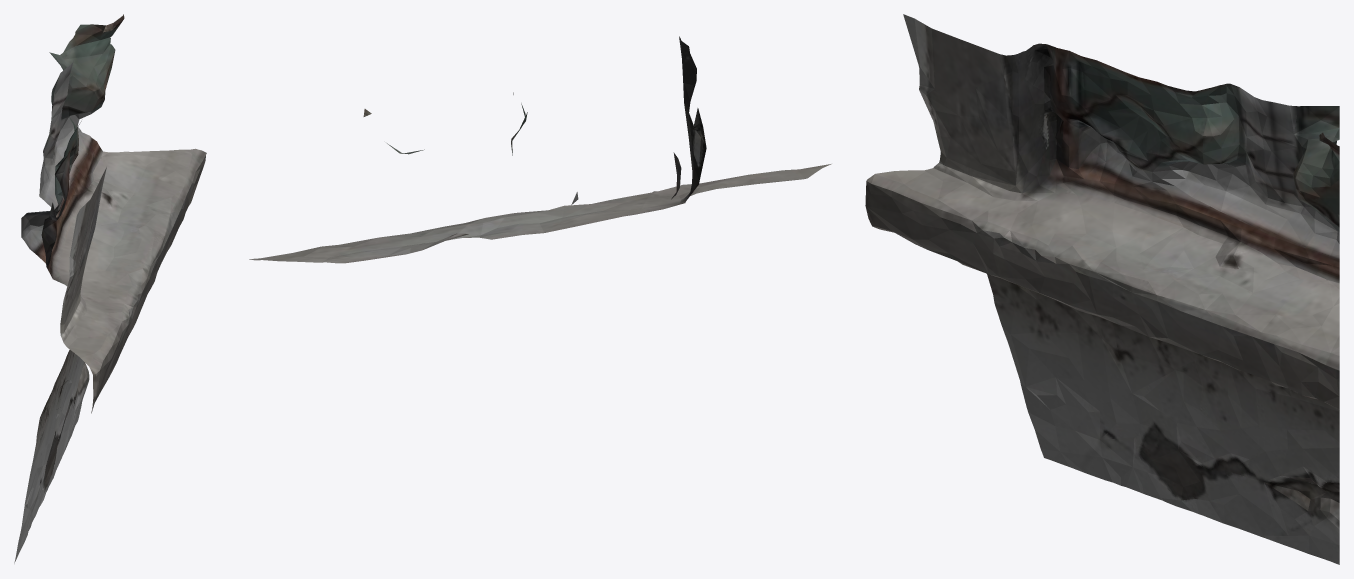
3 renders of one model, left to right at view 1: azimuth 30°, elevation 25°; view 2: azimuth 150°, elevation 25°; view 3: azimuth 270°, elevation 25°, orthographic. The views are drawn at different scales.
Bounding box in the file's own units: 0.7188 × 0.8373 × 0.8104.
4 materials, 4 textured.
